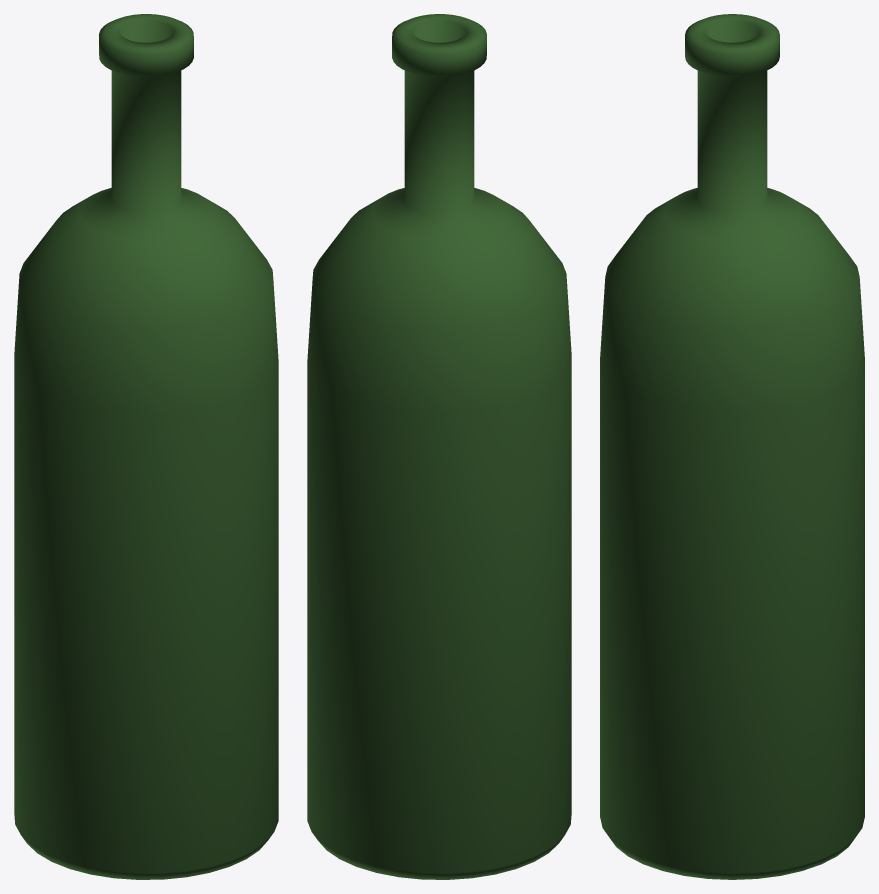
Rendered from BottleWine.glb.
The picture shows the model from 3 angles, left to right: view 1: azimuth 30°, elevation 25°; view 2: azimuth 150°, elevation 25°; view 3: azimuth 270°, elevation 25°; orthographic projection.
Parts seen in each view (by area): view 1: Bottle; view 2: Bottle; view 3: Bottle.
Boxes of the visible parts, x1,y1,x2,y2 form: Bottle: [14, 14, 278, 879]; Bottle: [307, 14, 571, 879]; Bottle: [600, 14, 864, 879].
Size of the model in its own units: 0.2168 by 0.7182 by 0.2168.
